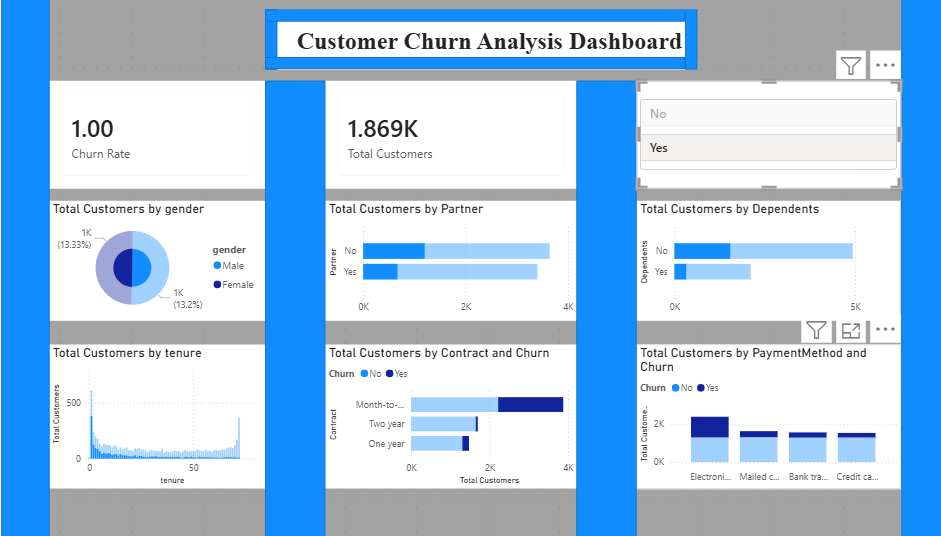

Layout of this report page (visuals, bound fields, positions):
{"tool":"powerbi","page":{"name":"Page 1","canvas":[1280,720],"ordinal":0},"visuals":[{"type":"shape","box":[16,0,1264,720],"z":0},{"type":"cardVisual","fields":{"Data":["telco.Churn Rate"]},"box":[80,112,288,144],"z":1000},{"type":"cardVisual","fields":{"Data":["telco.Total Customers"]},"box":[448,112,336,144],"z":2000},{"type":"pieChart","fields":{"Category":["telco.gender"],"Y":["telco.Total Customers"]},"box":[80,272,288,160],"z":3000},{"type":"barChart","fields":{"Category":["telco.Partner"],"Y":["telco.Total Customers"]},"box":[448,272,336,160],"z":4000},{"type":"clusteredBarChart","fields":{"Category":["telco.Dependents"],"Y":["telco.Total Customers"]},"box":[864,272,352,160],"z":5000},{"type":"columnChart","fields":{"Category":["telco.tenure"],"Y":["telco.Total Customers"]},"box":[80,464,288,192],"z":6000},{"type":"barChart","fields":{"Category":["telco.Contract"],"Y":["telco.Total Customers"],"Series":["telco.Churn"]},"box":[448,464,336,192],"z":7000},{"type":"columnChart","fields":{"Category":["telco.PaymentMethod"],"Y":["telco.Total Customers"],"Series":["telco.Churn"]},"box":[864,464,352,192],"z":8000},{"type":"textbox","box":[384,16,560,80],"z":9000},{"type":"shape","box":[368,16,16,80],"z":10000},{"type":"shape","box":[368,16,560,16],"z":11000},{"type":"shape","box":[368,80,560,16],"z":12000},{"type":"shape","box":[928,16,16,80],"z":13000},{"type":"cardVisual","fields":{"Rows":["telco.Churn"]},"box":[864,112,352,144],"z":14000},{"type":"shape","box":[368,112,80,608],"z":15000},{"type":"shape","box":[784,112,80,608],"z":16000},{"type":"shape","box":[1216,0,64,720],"z":17000},{"type":"shape","box":[16,0,64,720],"z":18000}]}

Visuals, with their boxes in screenshot pixels (x1, y1, x2, y2), scaled from the page's 1280x720 canvas onto the 941x536 screenshot:
shape: (left=12, top=0, right=940, bottom=535)
cardVisual - telco.Churn Rate: (left=59, top=83, right=271, bottom=191)
cardVisual - telco.Total Customers: (left=329, top=83, right=576, bottom=191)
pieChart - telco.gender x telco.Total Customers: (left=59, top=202, right=271, bottom=322)
barChart - telco.Partner x telco.Total Customers: (left=329, top=202, right=576, bottom=322)
clusteredBarChart - telco.Dependents x telco.Total Customers: (left=635, top=202, right=894, bottom=322)
columnChart - telco.tenure x telco.Total Customers: (left=59, top=345, right=271, bottom=488)
barChart - telco.Contract x telco.Total Customers: (left=329, top=345, right=576, bottom=488)
columnChart - telco.PaymentMethod x telco.Total Customers: (left=635, top=345, right=894, bottom=488)
textbox: (left=282, top=12, right=694, bottom=71)
shape: (left=271, top=12, right=282, bottom=71)
shape: (left=271, top=12, right=682, bottom=24)
shape: (left=271, top=60, right=682, bottom=71)
shape: (left=682, top=12, right=694, bottom=71)
cardVisual - telco.Churn: (left=635, top=83, right=894, bottom=191)
shape: (left=271, top=83, right=329, bottom=535)
shape: (left=576, top=83, right=635, bottom=535)
shape: (left=894, top=0, right=940, bottom=535)
shape: (left=12, top=0, right=59, bottom=535)
